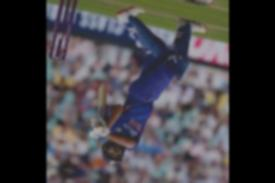batsman: (93, 0, 205, 183)
